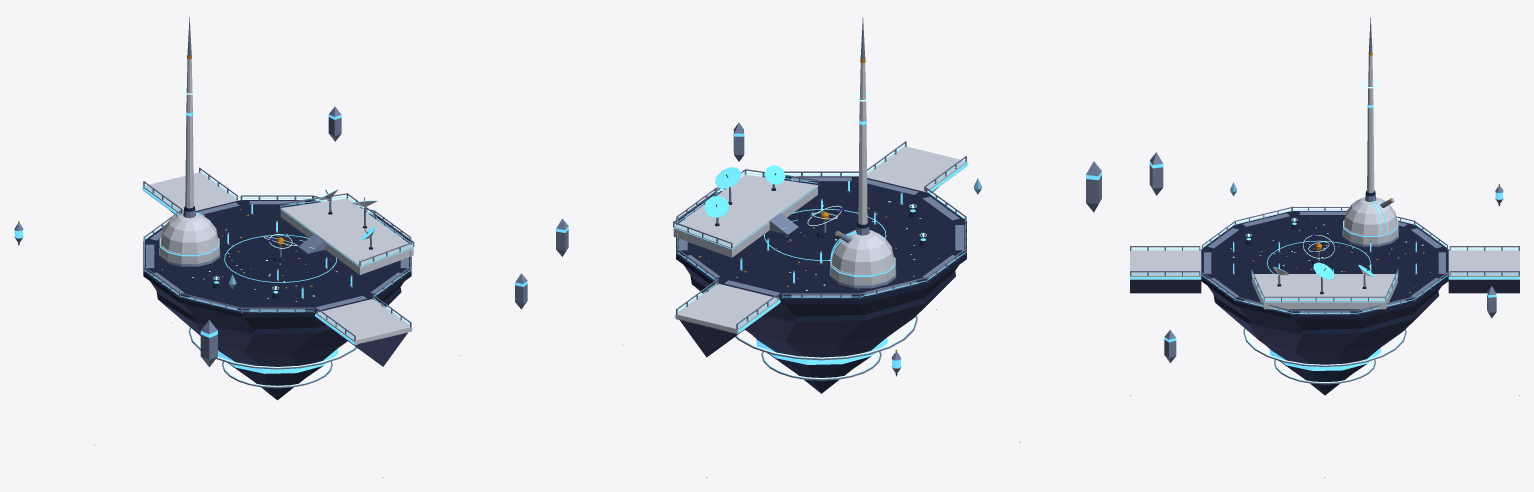
The model's file is chunk_observatory.fbx.
3 views of the same model, side by side, from view 1: azimuth 30°, elevation 25°; view 2: azimuth 150°, elevation 25°; view 3: azimuth 270°, elevation 25° (orthographic). The views are drawn at different scales.
Parts seen in each view (by area): view 1: chunk_observatory; view 2: chunk_observatory; view 3: chunk_observatory.
Boxes of the visible parts, left/top/right/bottom form: chunk_observatory: left=14, top=16, right=527, bottom=477; chunk_observatory: left=556, top=17, right=1101, bottom=477; chunk_observatory: left=1130, top=17, right=1519, bottom=477.
Bounding box in the file's own units: 256 × 256 × 256.
